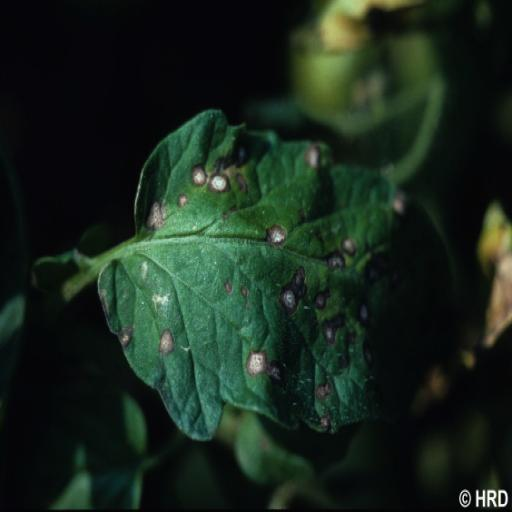disease_tomato: (96, 111, 456, 449)
